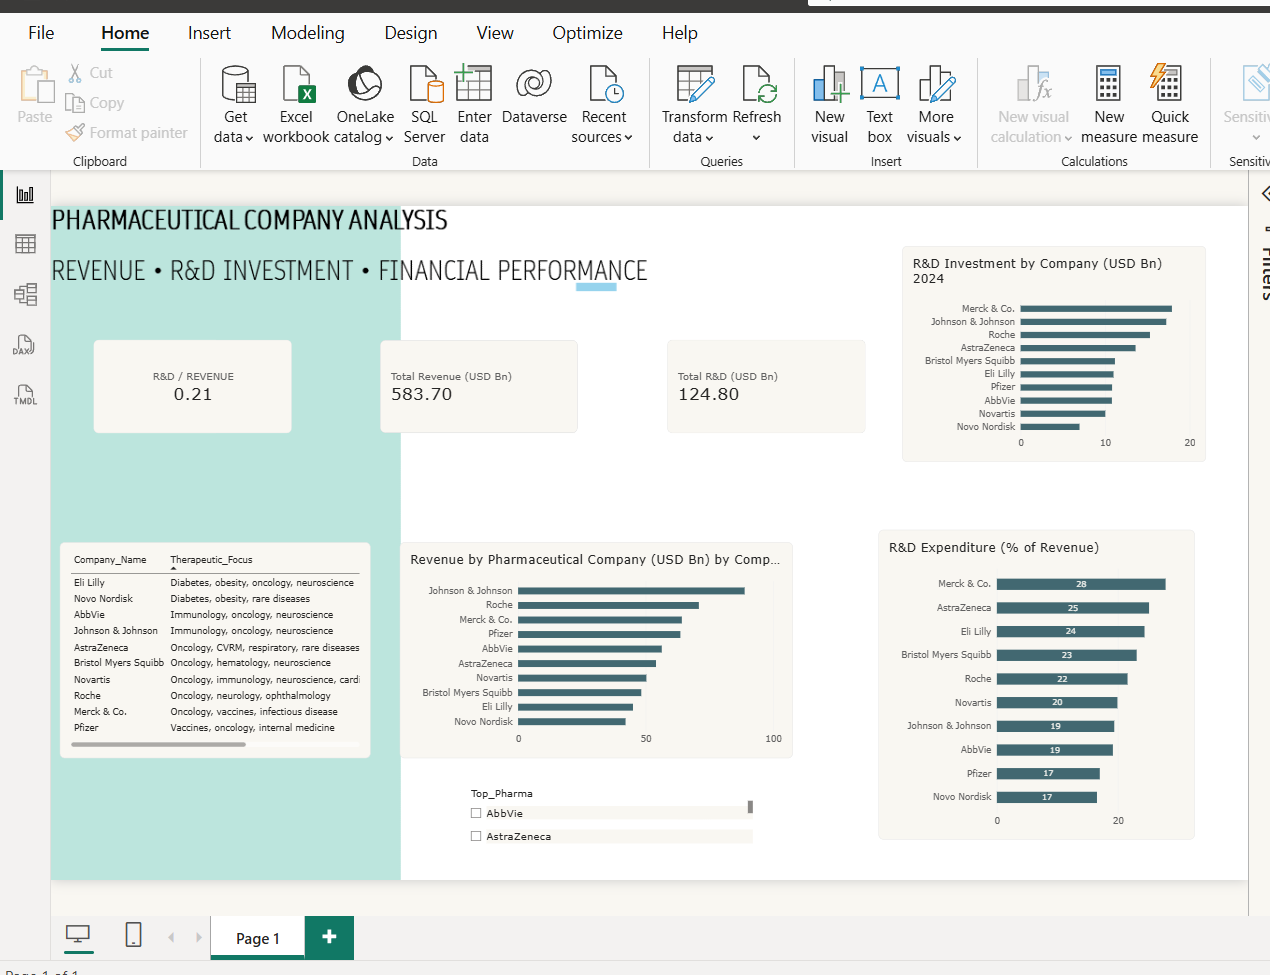

The page's visual inventory and layout, read from the dashboard file:
{"tool":"powerbi","page":{"name":"Page 1","canvas":[1920,1080],"ordinal":0},"visuals":[{"type":"cardVisual","fields":{"Data":["Company_Data.Total R&D (USD Bn)"]},"box":[988.3,214.5,318.7,150.3],"z":0},{"type":"cardVisual","title":"Total Revenue","fields":{"Data":["Company_Data.Total Revenue (USD Bn)"]},"box":[527.2,214.5,318.7,150.3],"z":1000},{"type":"clusteredBarChart","fields":{"Category":["Data_Sources.Company_Name"],"Y":["Sum(Company_Data.Revenue_USD_Bn)"]},"box":[560,540,630,346],"z":2000},{"type":"clusteredBarChart","fields":{"Category":["Data_Sources.Company_Name"],"Y":["Sum(Company_Data.R&D_Expense_US)"]},"box":[1366,64,487.1,346.8],"z":3000},{"type":"tableEx","fields":{"Values":["Data_Sources.Company_Name","Company_Data.Therapeutic_Focus","Company_profile.Company_Type"]},"box":[14,540,498,346],"z":4000},{"type":"slicer","fields":{"Values":["Data_Sources.Company_Name"]},"box":[666,932,460,104],"z":5000},{"type":"funnel","fields":{"Category":["Data_Sources.Company_Name"],"Y":["Company_Data.R&D Expenditure (% of Revenue)"]},"box":[1234,540,638,346],"z":6000},{"type":"cardVisual","title":"R&D / REVENUE","fields":{"Data":["Company_Data.R&D to Revenue (%)"]},"box":[68.2,214.5,318.7,150.3],"z":7000}]}

Visuals, with their boxes on the page's 1920x1080 design canvas (x1, y1, x2, y2). These are canvas units, not pixel positions in the 1270x975 screenshot, which may show the page scaled, cropped or inside an application window:
cardVisual - Company_Data.Total R&D (USD Bn): <bbox>988, 214, 1307, 365</bbox>
"Total Revenue" cardVisual: <bbox>527, 214, 846, 365</bbox>
clusteredBarChart - Data_Sources.Company_Name x Sum(Company_Data.Revenue_USD_Bn): <bbox>560, 540, 1190, 886</bbox>
clusteredBarChart - Data_Sources.Company_Name x Sum(Company_Data.R&D_Expense_US): <bbox>1366, 64, 1853, 411</bbox>
tableEx - Data_Sources.Company_Name x Company_Data.Therapeutic_Focus: <bbox>14, 540, 512, 886</bbox>
slicer - Data_Sources.Company_Name: <bbox>666, 932, 1126, 1036</bbox>
funnel - Data_Sources.Company_Name x Company_Data.R&D Expenditure (% of Revenue): <bbox>1234, 540, 1872, 886</bbox>
"R&D / REVENUE" cardVisual: <bbox>68, 214, 387, 365</bbox>
